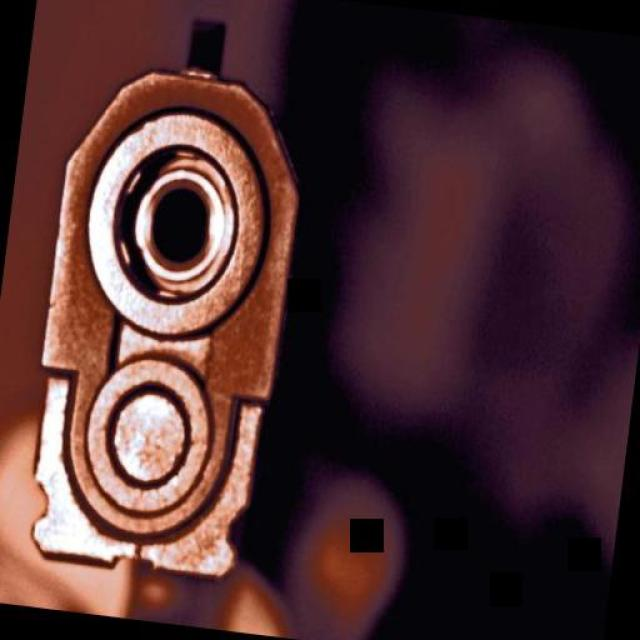gun: (15, 50, 316, 582)
